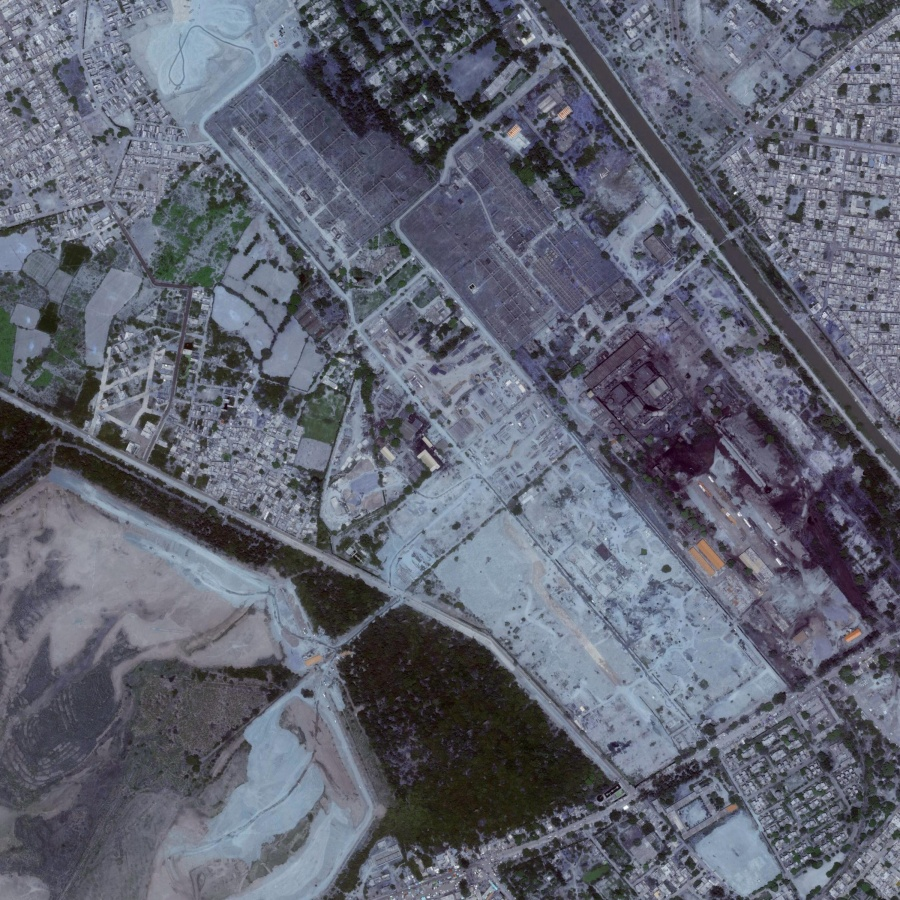PowerPlant: (584, 326, 883, 649)
